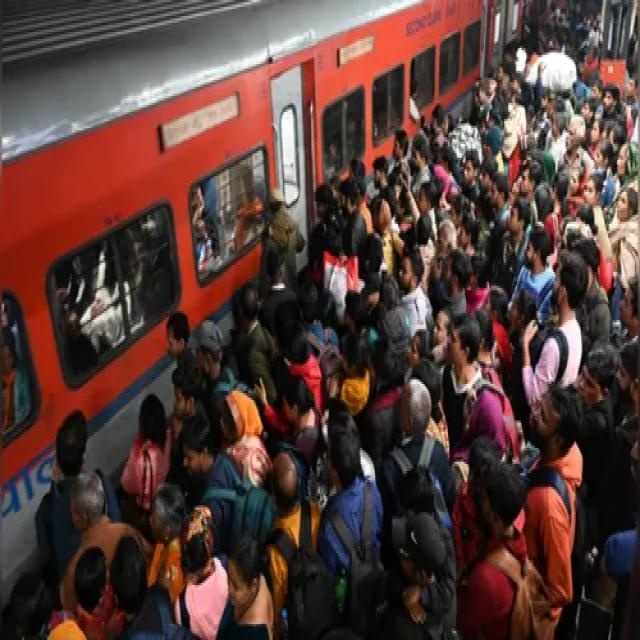person: (78, 100, 628, 640)
